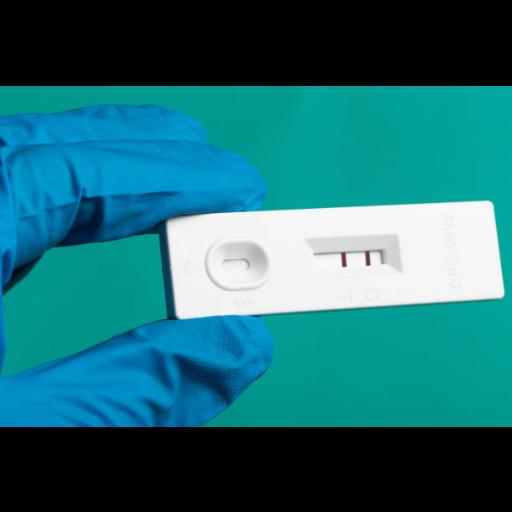Pos: (164, 199, 506, 318)
